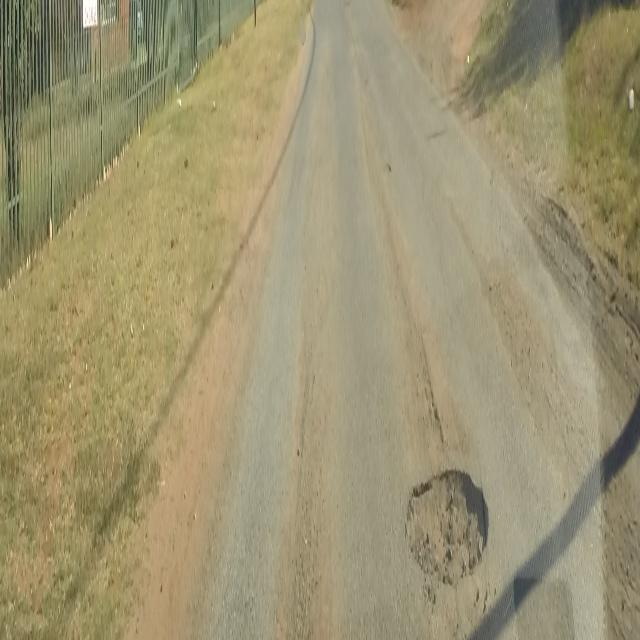pothole: (397, 464, 493, 591)
